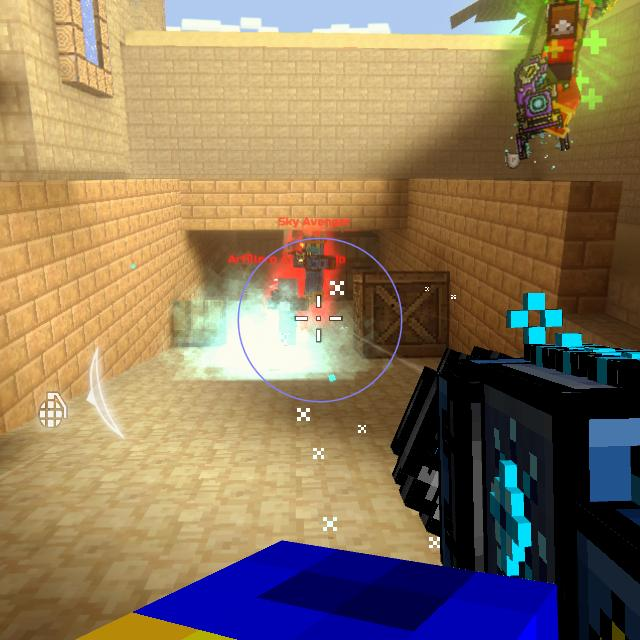Enemy: (266, 276, 309, 350), (291, 234, 334, 304)
